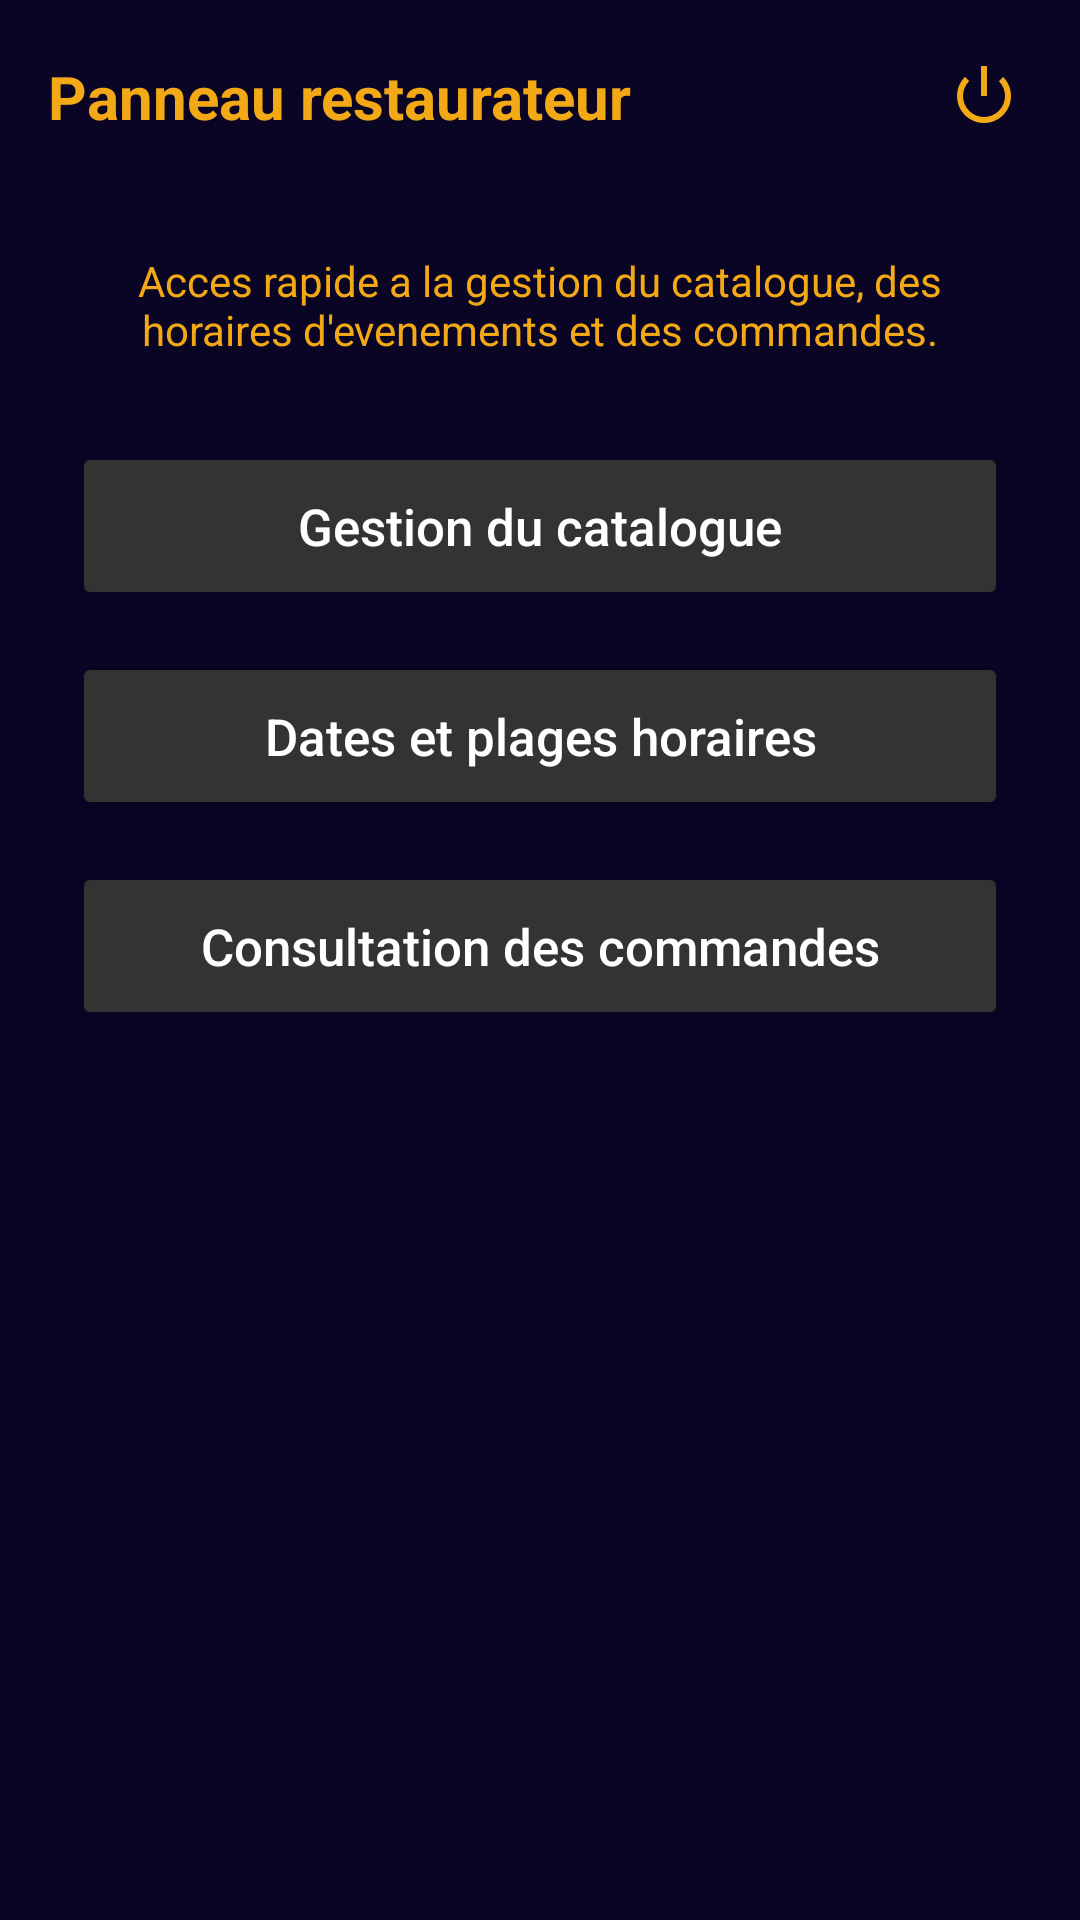

Where icons sit on this 1080*1920 app screen, as (x1, y1, x2, y2):
Se deconnecter: (957, 66, 1011, 123)
